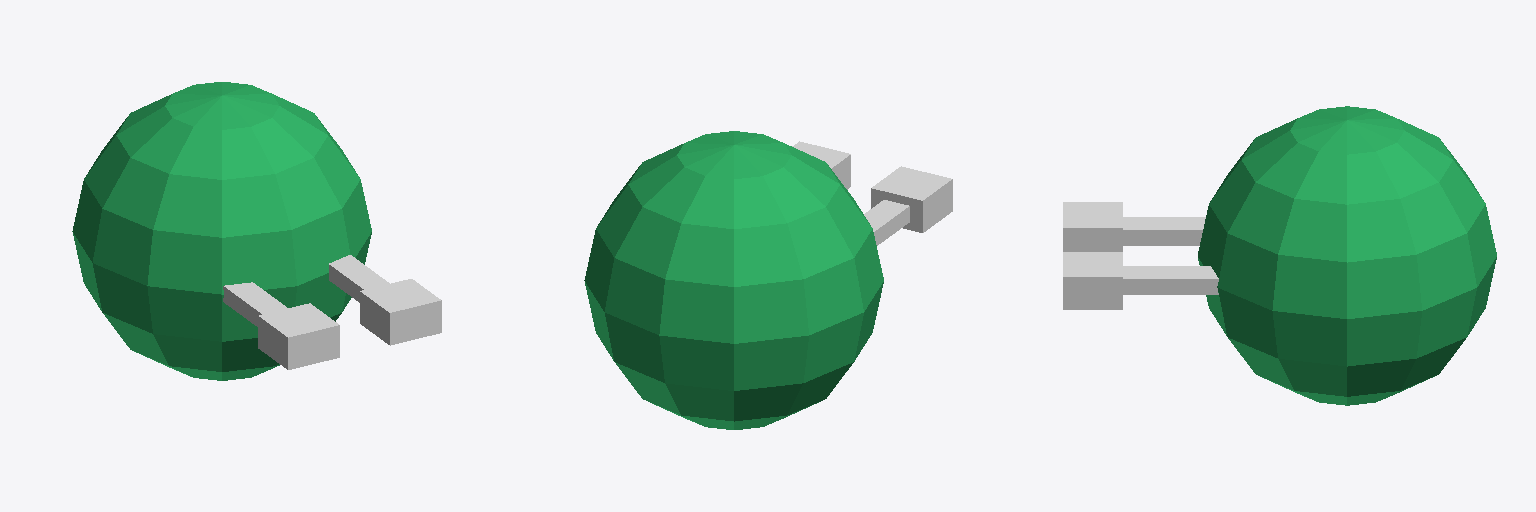
Rendered from turret.obj.
3 renders of one model, left to right at view 1: azimuth 30°, elevation 25°; view 2: azimuth 150°, elevation 25°; view 3: azimuth 270°, elevation 25°, orthographic.
Parts seen in each view (by area): view 1: sphere1, barrel2, barrel1; view 2: sphere1, barrel2, barrel1; view 3: sphere1, barrel1, barrel2.
Boxes of the visible parts, <box> form: sphere1: <box>72,82,371,380</box>; barrel2: <box>223,282,339,369</box>; barrel1: <box>329,255,441,345</box>; sphere1: <box>584,131,883,429</box>; barrel2: <box>864,166,952,245</box>; barrel1: <box>792,141,850,189</box>; sphere1: <box>1198,106,1496,405</box>; barrel1: <box>1063,252,1218,309</box>; barrel2: <box>1063,202,1205,251</box>.
Bounding box in the file's own units: 4 × 4 × 5.8.